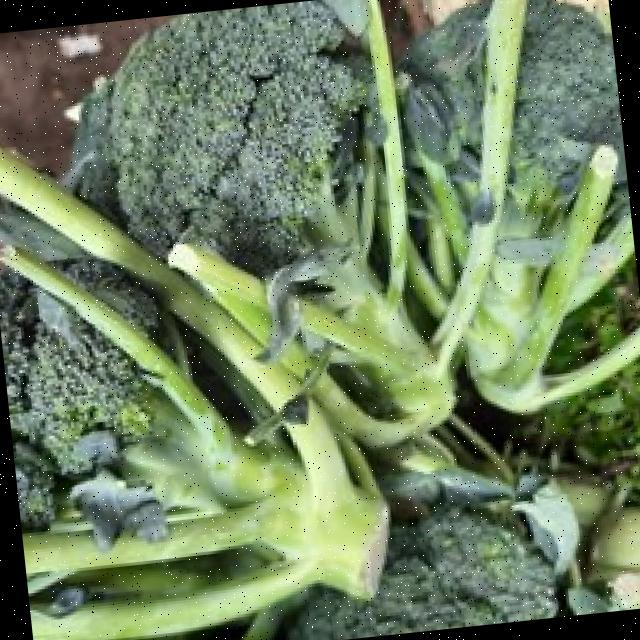Broccoli: (74, 0, 364, 272), (75, 0, 363, 272), (288, 504, 556, 640), (288, 505, 556, 640), (514, 0, 627, 179), (514, 0, 626, 177)
